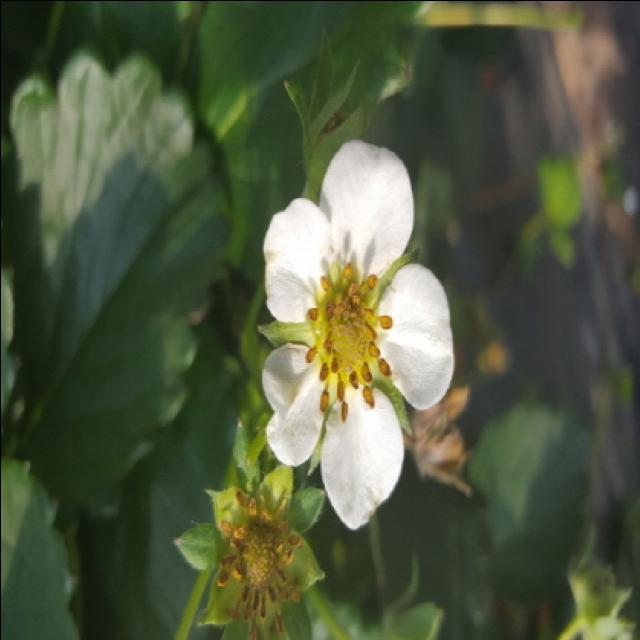Blossom Blight: (296, 253, 396, 425), (209, 484, 308, 640)
